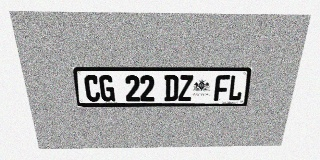2: (125, 75, 140, 101), (140, 75, 154, 101)
C: (83, 75, 101, 102)
D: (164, 75, 179, 101)
F: (214, 75, 230, 101)
G: (99, 75, 115, 102)
L: (227, 75, 244, 101)
Z: (178, 75, 193, 101)
